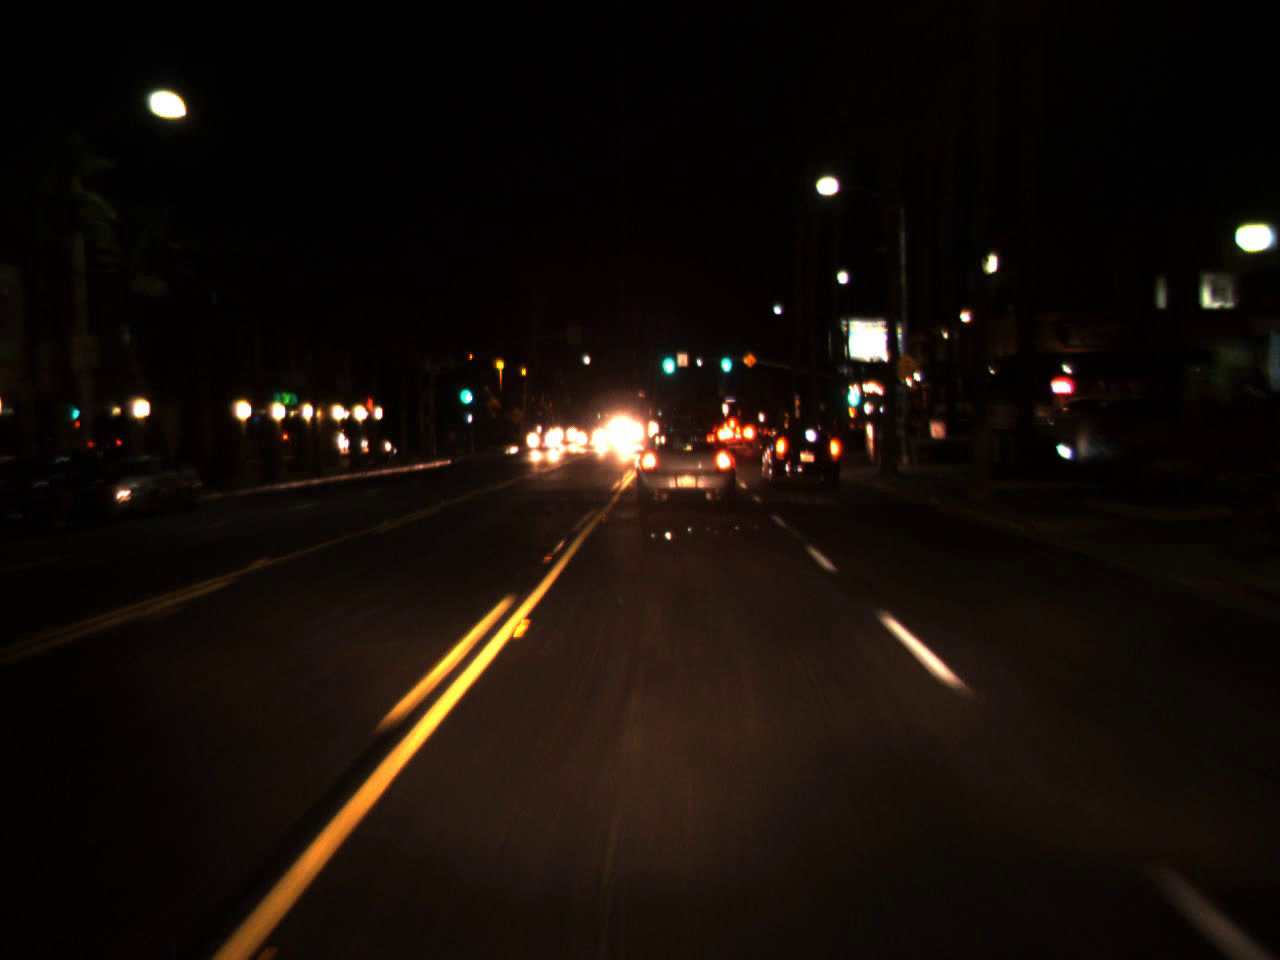go: (841, 370, 862, 412), (657, 338, 676, 380), (456, 370, 474, 409), (717, 345, 733, 372)
